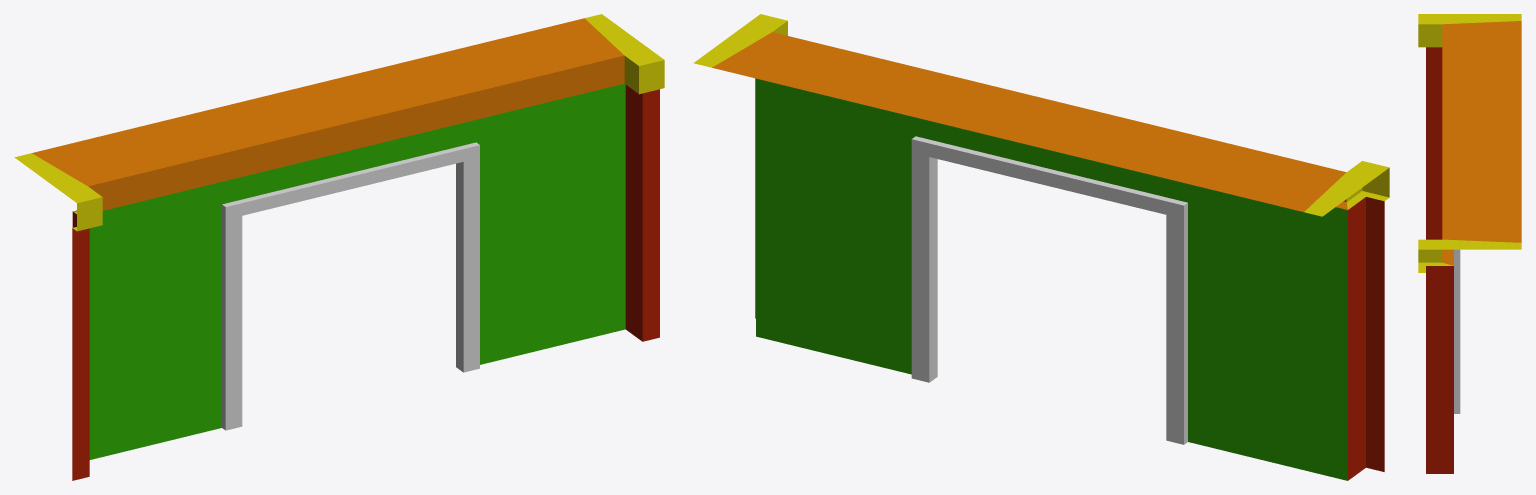
Rendered from entree.fbx.
The picture shows the model from 3 angles, left to right: view 1: azimuth 30°, elevation 25°; view 2: azimuth 150°, elevation 25°; view 3: azimuth 270°, elevation 25°; orthographic projection. The views are drawn at different scales.
Visible parts, largest first — view 1: wall, door; view 2: wall, door; view 3: wall, door.
Part boxes in pixels (<box>): wall: <box>14,14,664,480</box>; door: <box>222,142,479,430</box>; wall: <box>693,14,1389,480</box>; door: <box>911,136,1187,444</box>; wall: <box>1418,14,1521,473</box>; door: <box>1454,249,1460,413</box>.
Bounding box in the file's own units: 1650 × 754 × 306.
